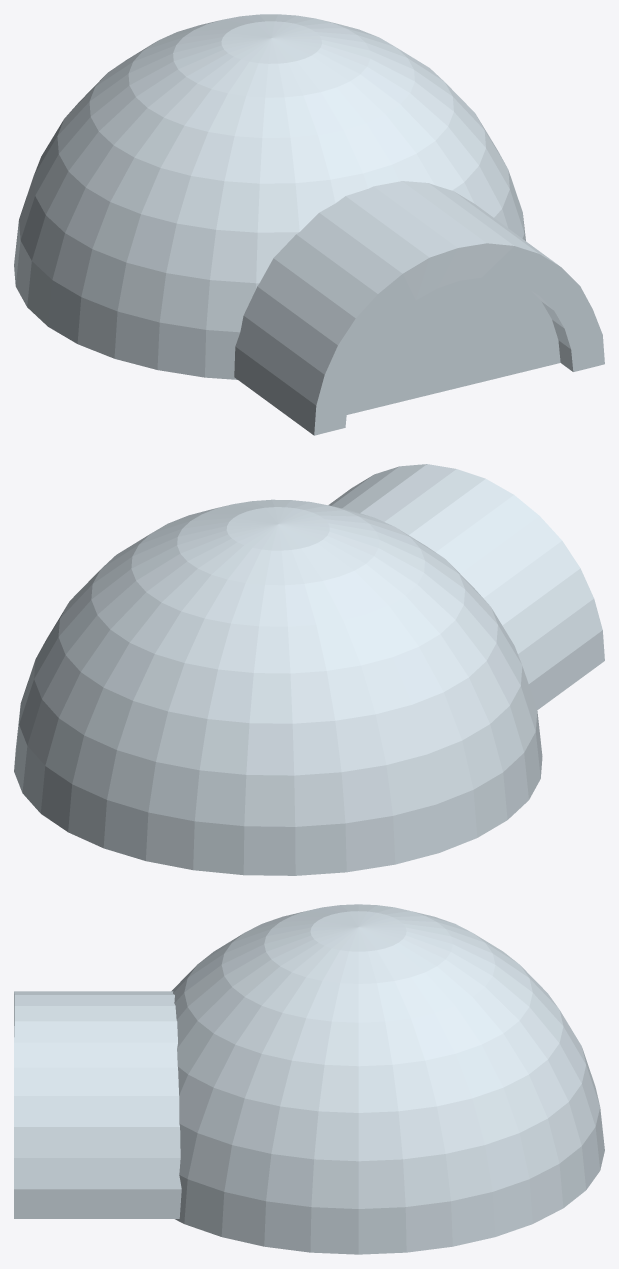
File: IglooSnowballStep.obj
The picture shows the model from 3 angles, top to bottom: view 1: azimuth 30°, elevation 25°; view 2: azimuth 150°, elevation 25°; view 3: azimuth 270°, elevation 25°; orthographic projection. The views are drawn at different scales.
Parts seen in each view (by area): view 1: Sphere.001; view 2: Sphere.001; view 3: Sphere.001.
Part boxes in pixels (<box>): Sphere.001: <box>14,14,604,435</box>; Sphere.001: <box>14,464,604,875</box>; Sphere.001: <box>14,904,604,1254</box>.
Bounding box in the file's own units: 1055 × 527 × 1265.
1 material, 1 textured.
